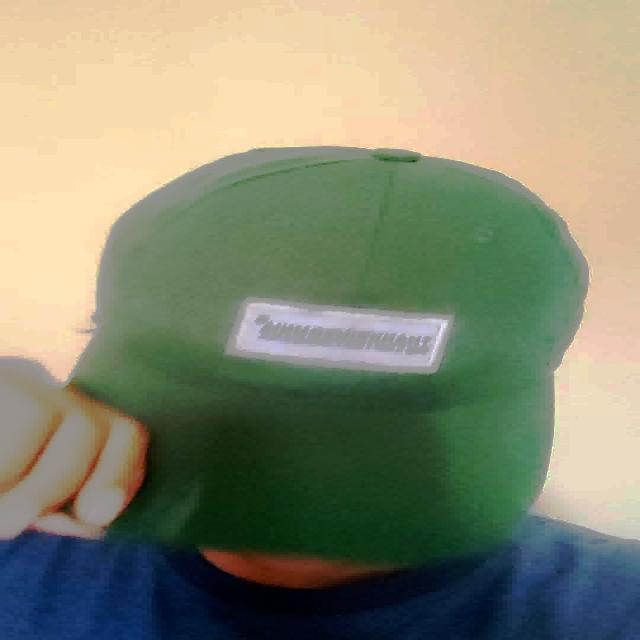TOPI: (65, 140, 593, 567)
